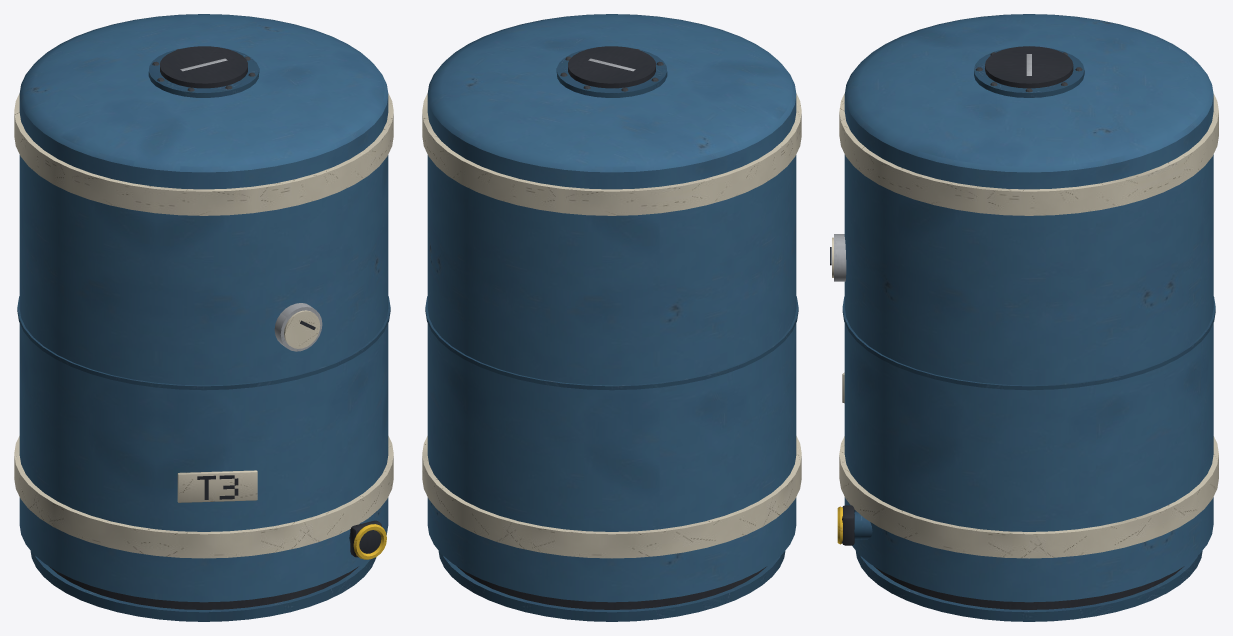
Rendered from tank_small.glb.
3 views of the same model, side by side, from view 1: azimuth 30°, elevation 25°; view 2: azimuth 150°, elevation 25°; view 3: azimuth 270°, elevation 25° (orthographic).
Visible parts, largest first — view 1: TankSmallBody; view 2: TankSmallBody; view 3: TankSmallBody.
Boxes of the visible parts, x1,y1,x2,y2 form: TankSmallBody: (14, 14, 393, 621); TankSmallBody: (422, 14, 801, 621); TankSmallBody: (830, 14, 1218, 621).
Size of the model in its own units: 0.71 by 0.998 by 0.7275.
Materials: 7 (7 with a texture image).
